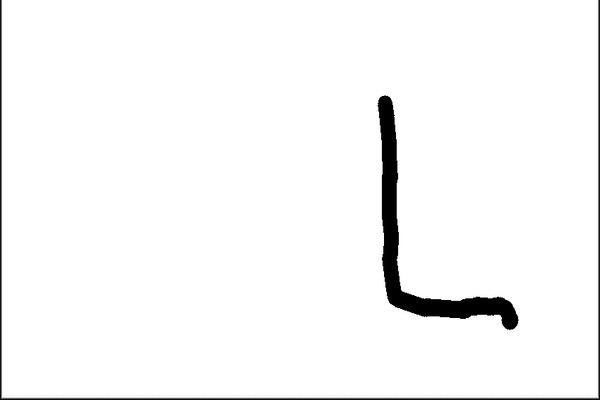L: (370, 88, 524, 335)
